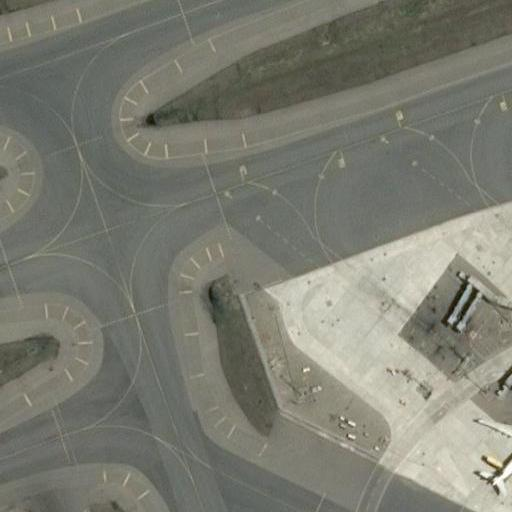Aircraft: (461, 392, 512, 502), (469, 398, 512, 501)
